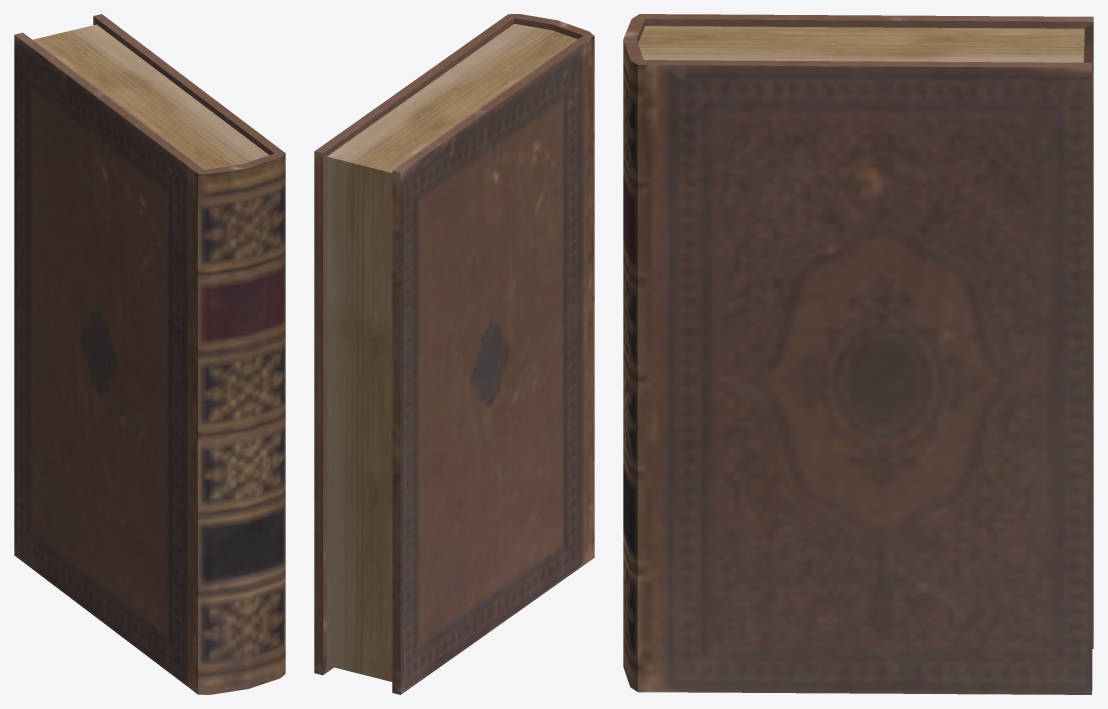
The picture shows the model from 3 angles, left to right: view 1: azimuth 30°, elevation 25°; view 2: azimuth 150°, elevation 25°; view 3: azimuth 270°, elevation 25°; orthographic projection. The views are drawn at different scales.
Visible parts, largest first — view 1: Object_54; view 2: Object_54; view 3: Object_54.
Boxes of the visible parts, x1,y1,x2,y2 form: Object_54: (14, 14, 285, 694); Object_54: (314, 14, 594, 694); Object_54: (623, 14, 1093, 694).
Bounding box in the file's own units: 0.1254 × 0.6812 × 0.4633.
1 material, 1 textured.
